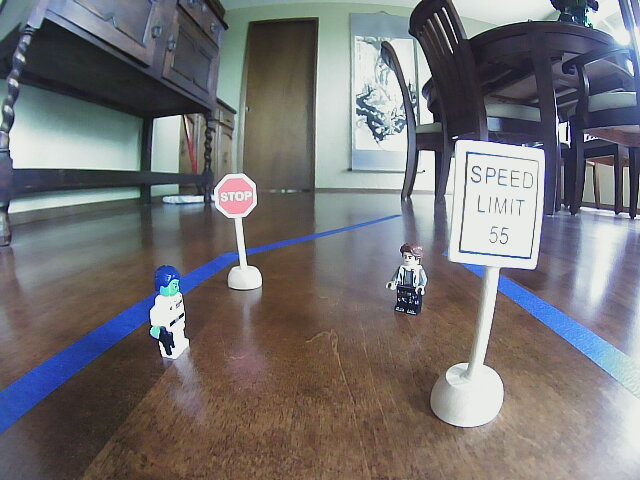SpeedLimit55: (451, 136, 542, 273)
StopSign: (214, 171, 259, 221)
person: (141, 263, 198, 361), (382, 239, 432, 318)
